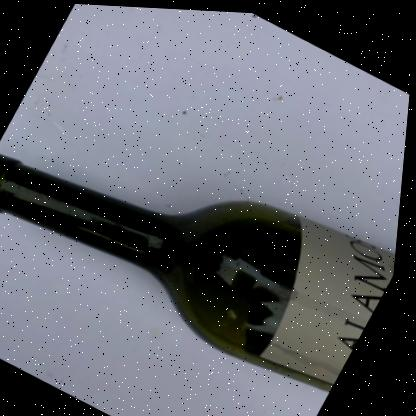Glass: (0, 155, 400, 389)
